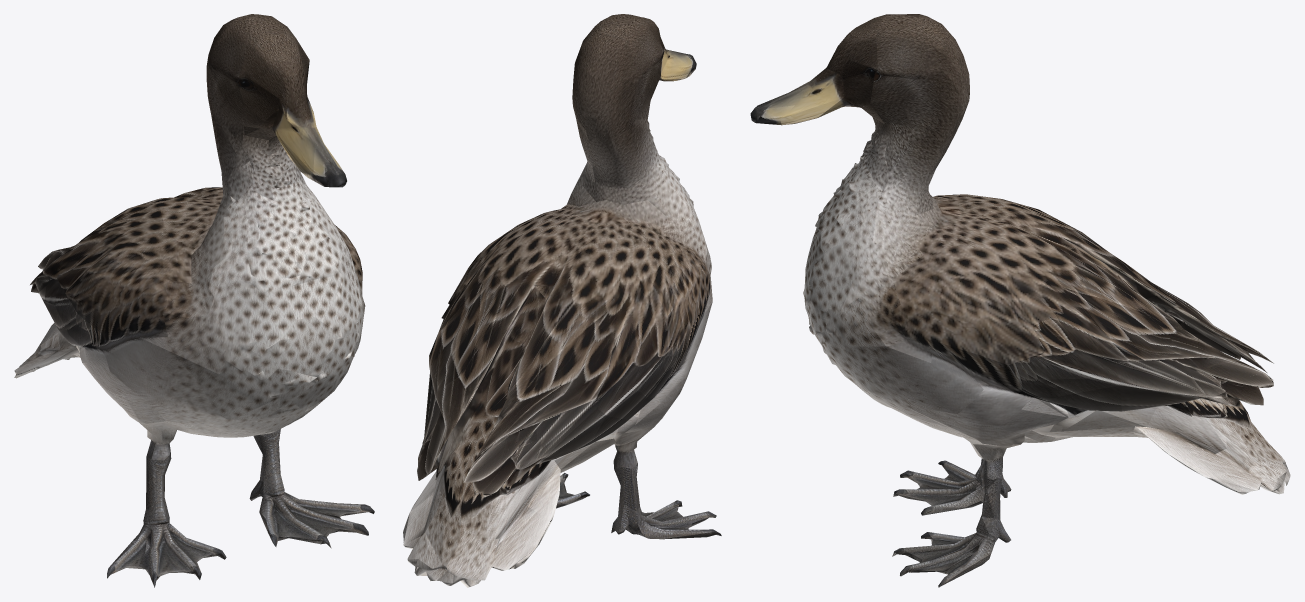
The model's file is mdl_ra5_pato_amarillo.fbx.
3 views of the same model, side by side, from view 1: azimuth 30°, elevation 25°; view 2: azimuth 150°, elevation 25°; view 3: azimuth 270°, elevation 25° (orthographic). The views are drawn at different scales.
Parts seen in each view (by area): view 1: SM_PatoAmarillo_Original; view 2: SM_PatoAmarillo_Original; view 3: SM_PatoAmarillo_Original.
Boxes of the visible parts, bbox=[...] form: SM_PatoAmarillo_Original: bbox=[14, 14, 374, 587]; SM_PatoAmarillo_Original: bbox=[403, 14, 721, 587]; SM_PatoAmarillo_Original: bbox=[750, 14, 1290, 587].
Bounding box in the file's own units: 0.1515 × 0.29 × 0.2794.
